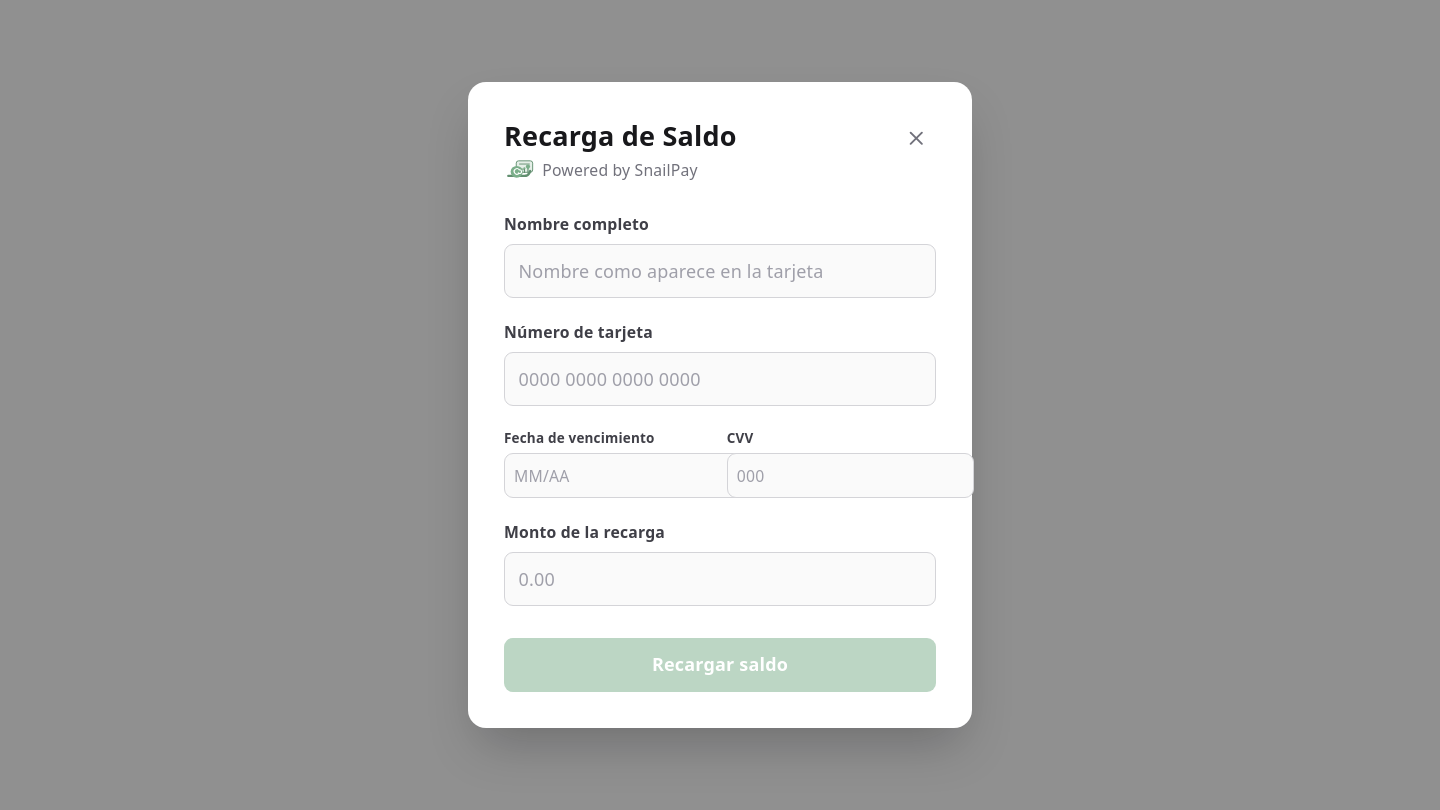
Test: flujos principales de autenticación y SnailPay › guarda una respuesta 402 sin modificar el saldo
Type "Taylor Swift" into the field labelled "Nombre completo". click: (720,271)
box: x1=504 y1=244 x2=936 y2=298
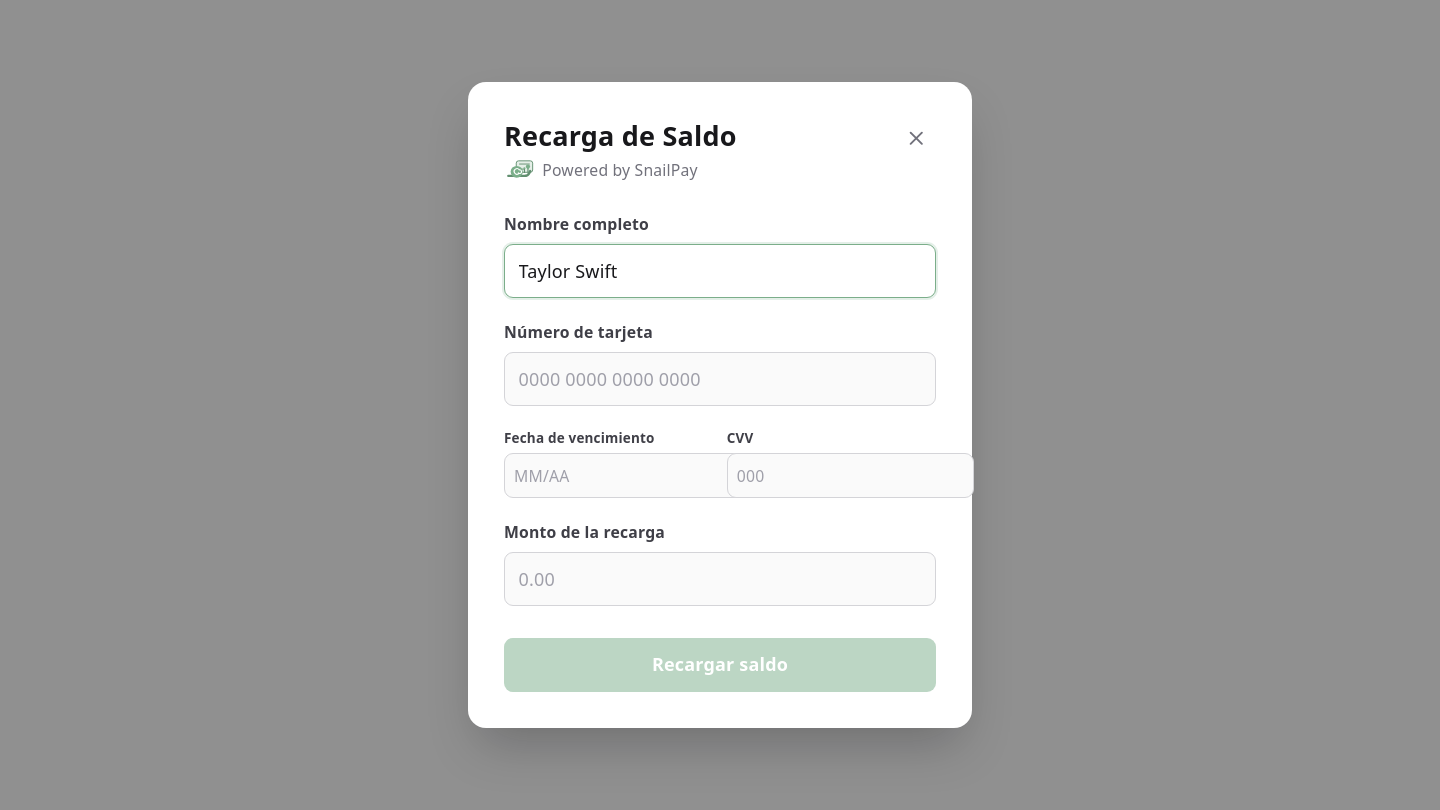
Type "1234123412341234" into the field labelled "Número de tarjeta". click: (720,379)
box: x1=504 y1=352 x2=936 y2=406
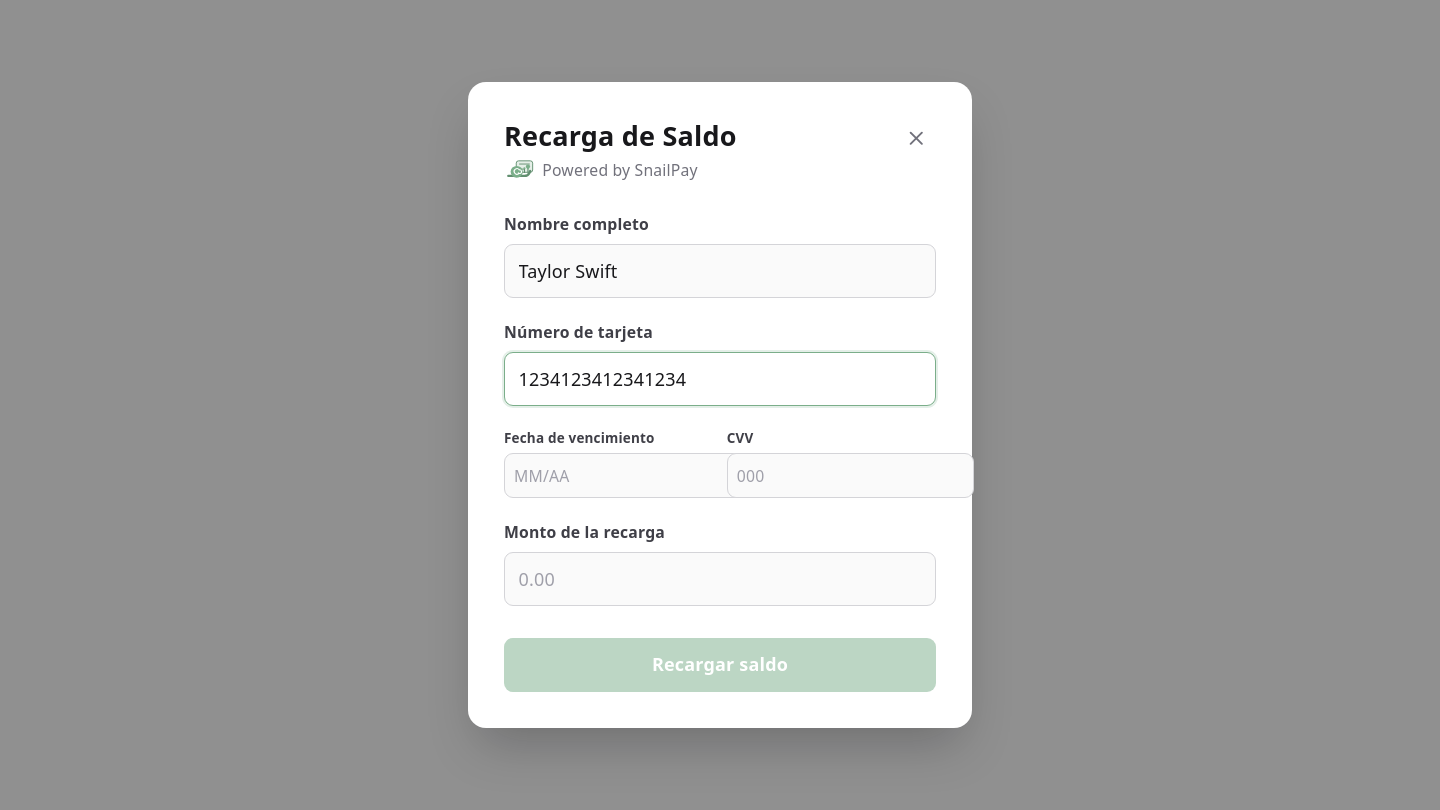
Type "1230" into the field labelled "Fecha de vencimiento". click: (628,476)
box: x1=504 y1=453 x2=751 y2=498
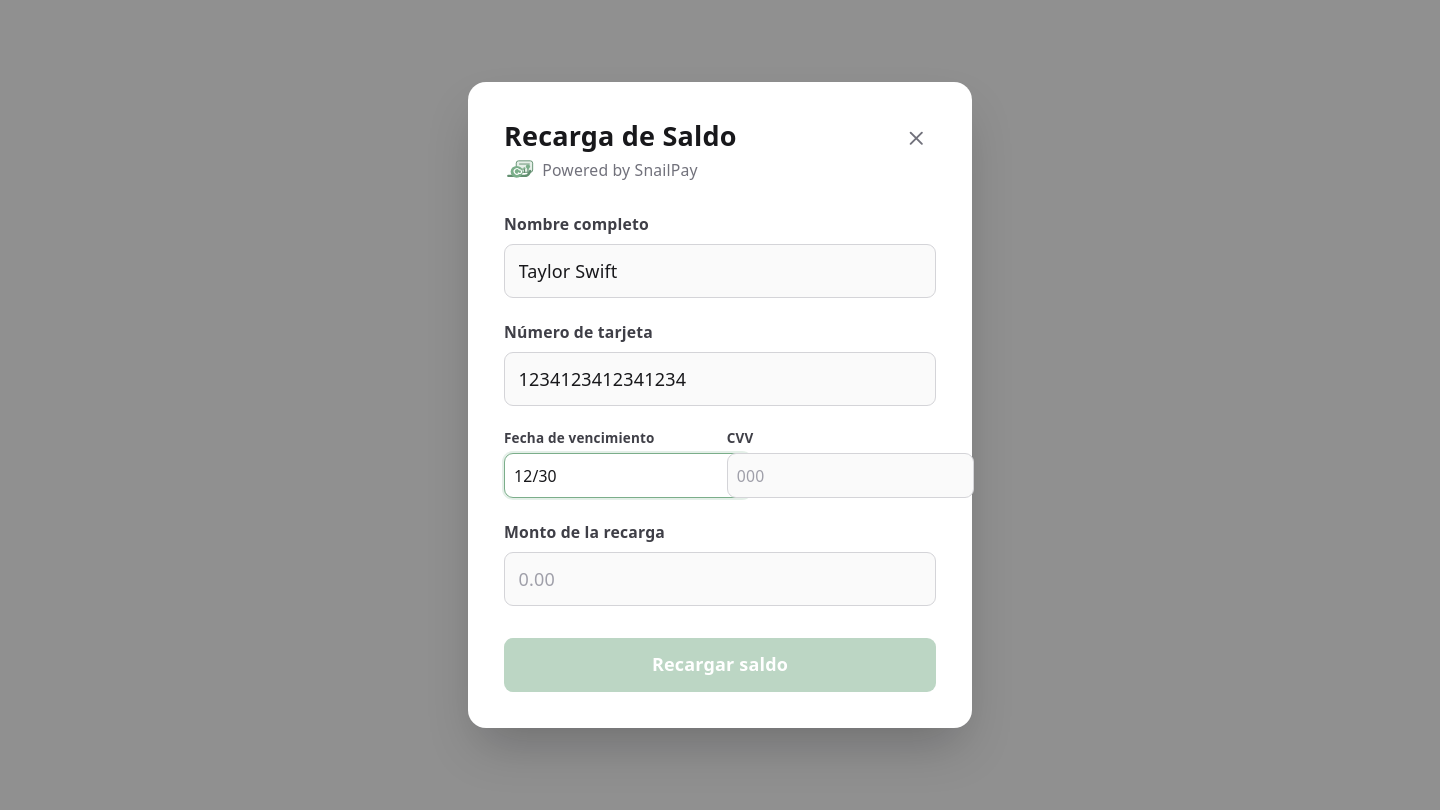
Type "543" into the password field labelled "CVV". click: (850,476)
box: x1=727 y1=453 x2=974 y2=498
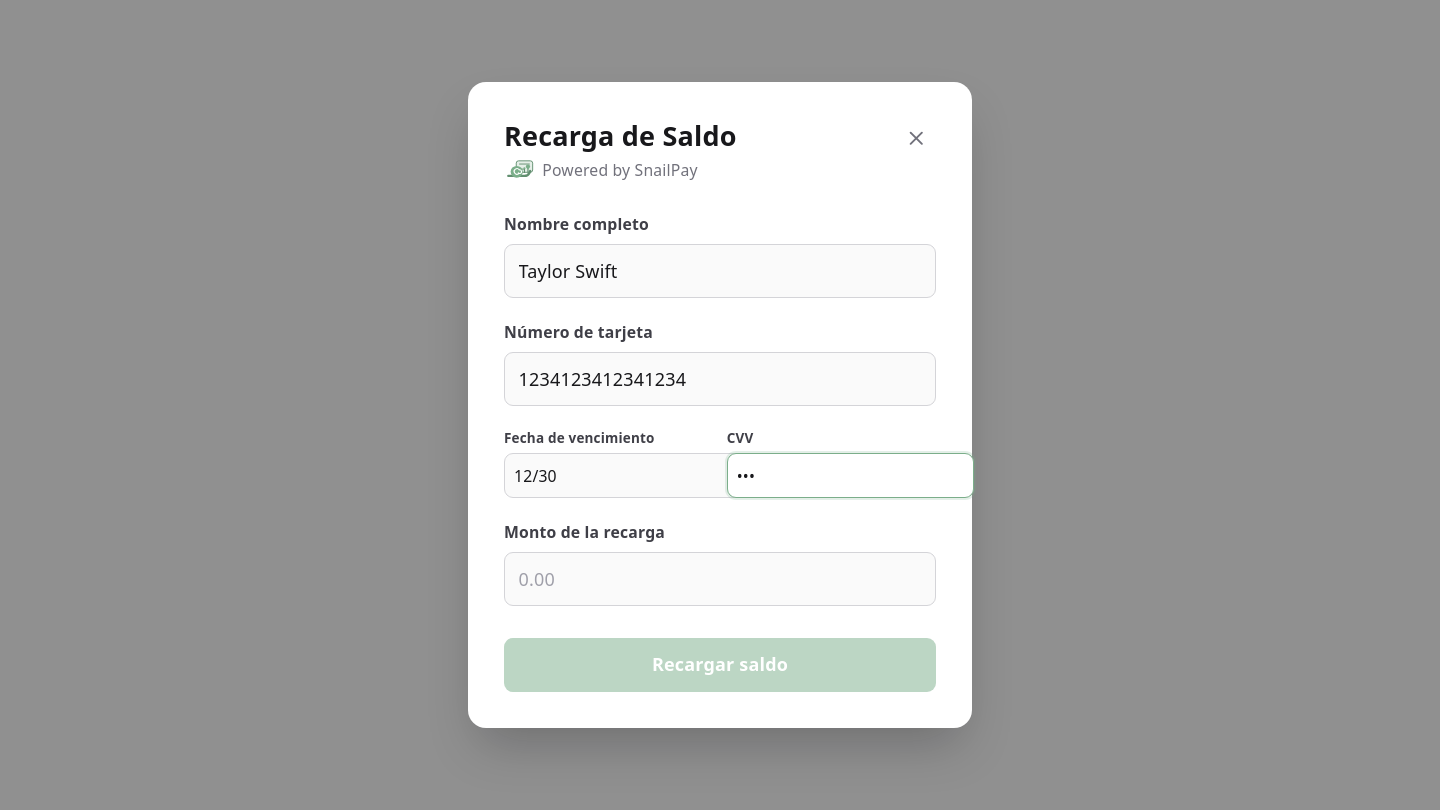
Type "100" into the number field labelled "Monto de la recarga". click: (720,579)
box: x1=504 y1=552 x2=936 y2=606
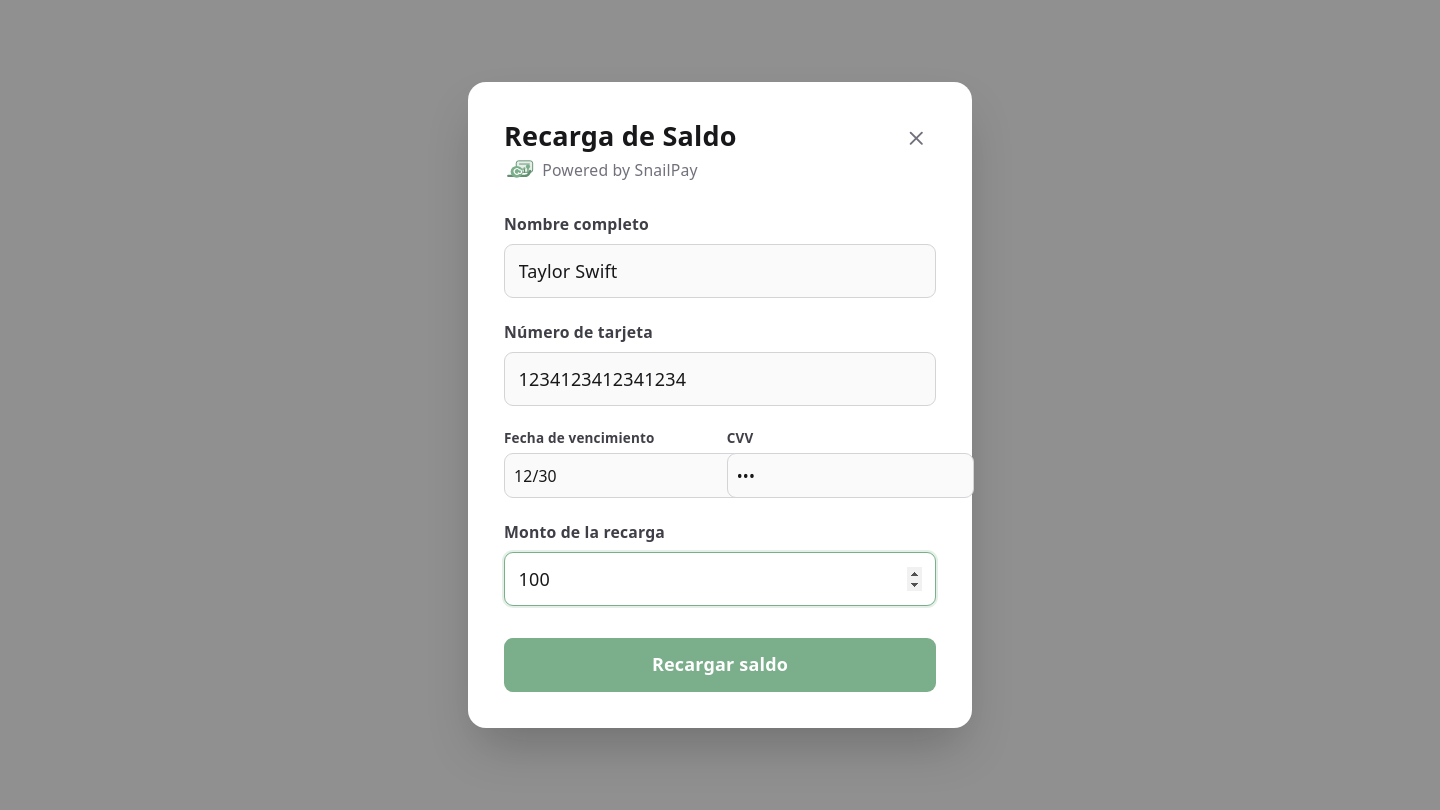
Click the button "Recargar saldo". click: (720,665)
box: x1=504 y1=638 x2=936 y2=692
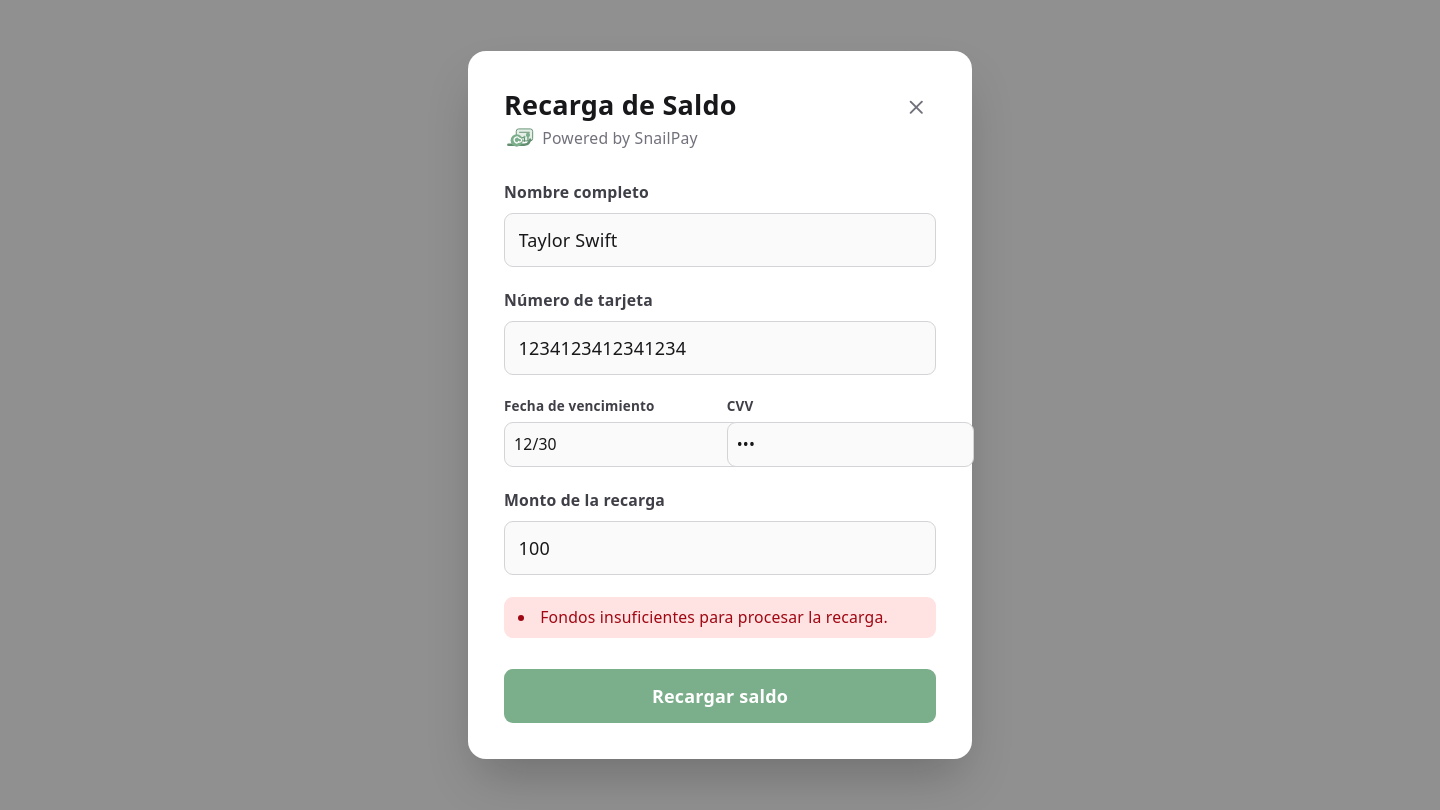
Expected: the message reads "Fondos insuficientes para procesar la recarga.", x1=540 y1=606 x2=888 y2=628
